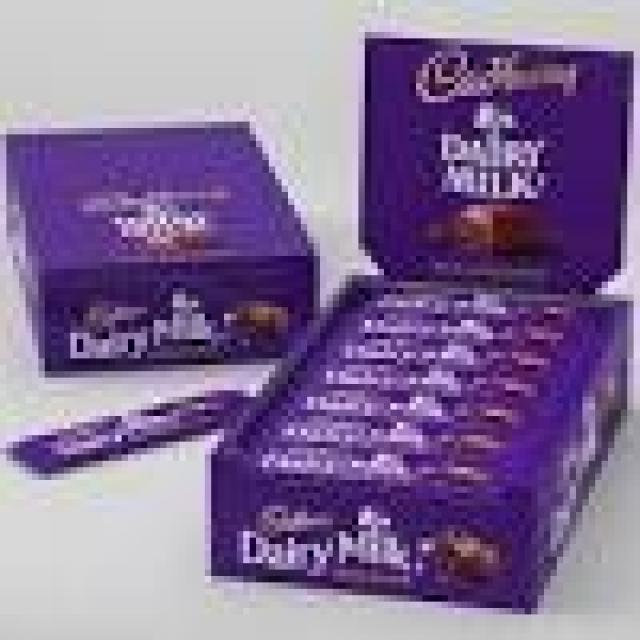cadbury: (225, 455, 505, 596)
